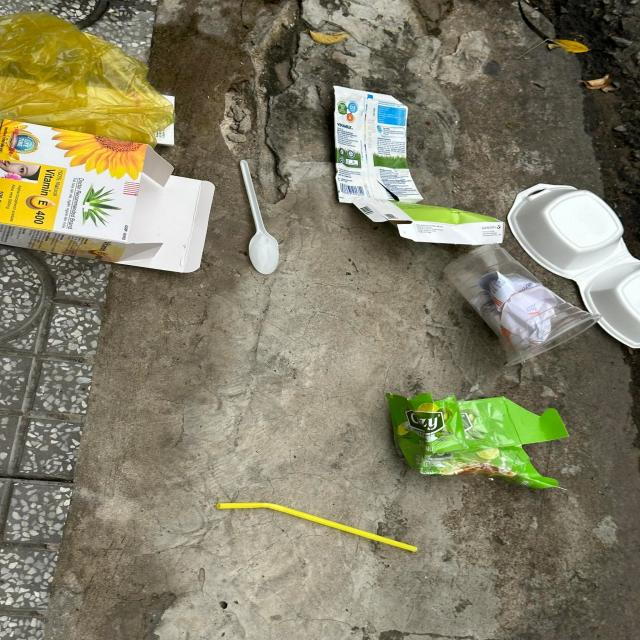bag: (0, 14, 179, 148)
cardboard box: (0, 120, 215, 276), (386, 392, 569, 490), (352, 197, 506, 244)
drinking straw: (215, 503, 419, 553)
foam box: (506, 183, 640, 349)
packet: (332, 86, 424, 203)
plastic glass: (446, 242, 600, 366)
plastic utensil: (239, 161, 281, 274)
